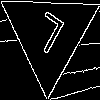L: (24, 9, 67, 64)
